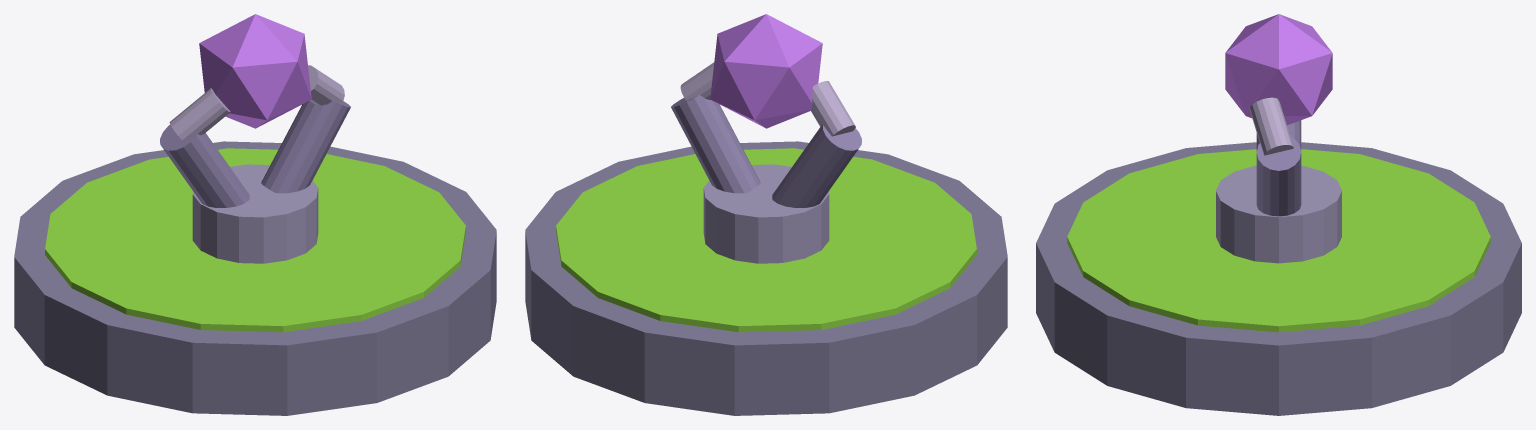
File: SlimeFountain.glb
3 views of the same model, side by side, from view 1: azimuth 30°, elevation 25°; view 2: azimuth 150°, elevation 25°; view 3: azimuth 270°, elevation 25° (orthographic).
Visible parts, largest first — view 1: Basin, Slime, Crystal.002, Pedestal, Claw.001, Claw, Finger, Finger.001; view 2: Basin, Slime, Crystal.002, Pedestal, Claw.001, Claw, Finger, Finger.001; view 3: Basin, Slime, Pedestal, Crystal.002, Claw.001, Finger.001.
Boxes of the visible parts, bbox=[...] form: Basin: bbox=[14, 141, 496, 415]; Slime: bbox=[45, 148, 465, 332]; Crystal.002: bbox=[199, 14, 311, 128]; Pedestal: bbox=[192, 164, 318, 263]; Claw.001: bbox=[261, 100, 350, 193]; Claw: bbox=[160, 125, 249, 207]; Finger: bbox=[169, 88, 230, 141]; Finger.001: bbox=[308, 65, 344, 105]; Basin: bbox=[525, 141, 1007, 415]; Slime: bbox=[556, 148, 976, 332]; Crystal.002: bbox=[710, 14, 822, 128]; Pedestal: bbox=[703, 164, 829, 263]; Claw.001: bbox=[671, 95, 760, 193]; Claw: bbox=[772, 125, 861, 207]; Finger: bbox=[811, 81, 855, 136]; Finger.001: bbox=[680, 62, 714, 100]; Basin: bbox=[1036, 142, 1521, 415]; Slime: bbox=[1067, 149, 1490, 332]; Pedestal: bbox=[1216, 165, 1341, 263]; Crystal.002: bbox=[1225, 14, 1332, 125]; Claw.001: bbox=[1256, 136, 1301, 216]; Finger.001: bbox=[1249, 97, 1293, 155].
Bounding box in the file's own units: 5 × 3.4 × 5.
